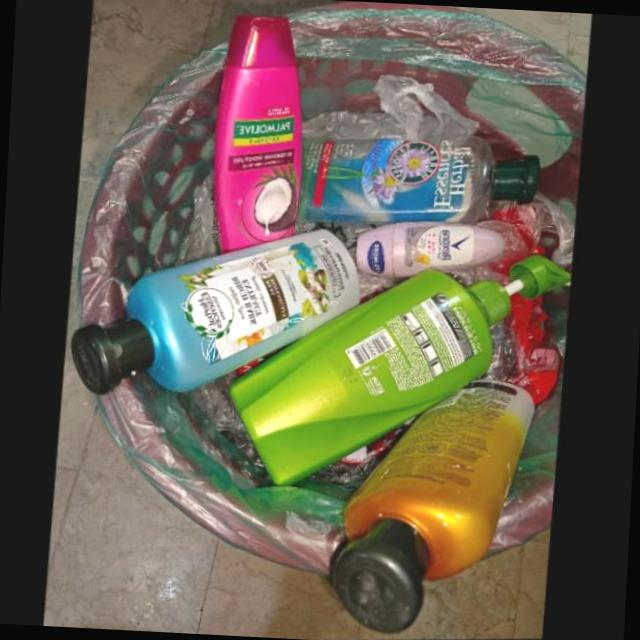chai_nhua: (229, 263, 571, 491), (328, 387, 535, 640), (70, 234, 361, 398), (213, 19, 305, 263), (298, 142, 540, 230), (356, 229, 505, 284)
